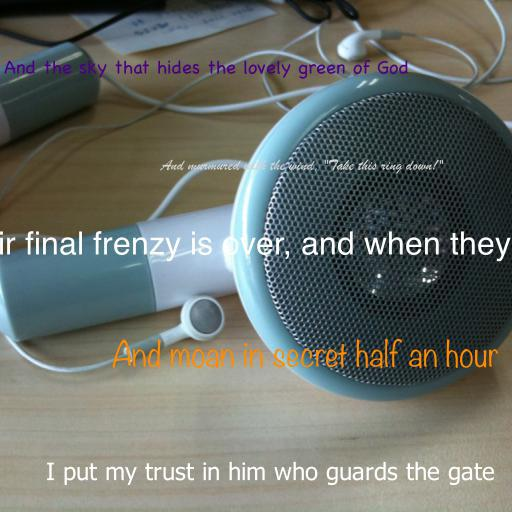Apple Chancery: (0, 231, 512, 262)
Brush Script MT: (161, 159, 443, 174)
Chalkboard: (3, 59, 409, 79)
Noteworthy: (111, 338, 499, 369)
Tahoma: (45, 461, 495, 486)
